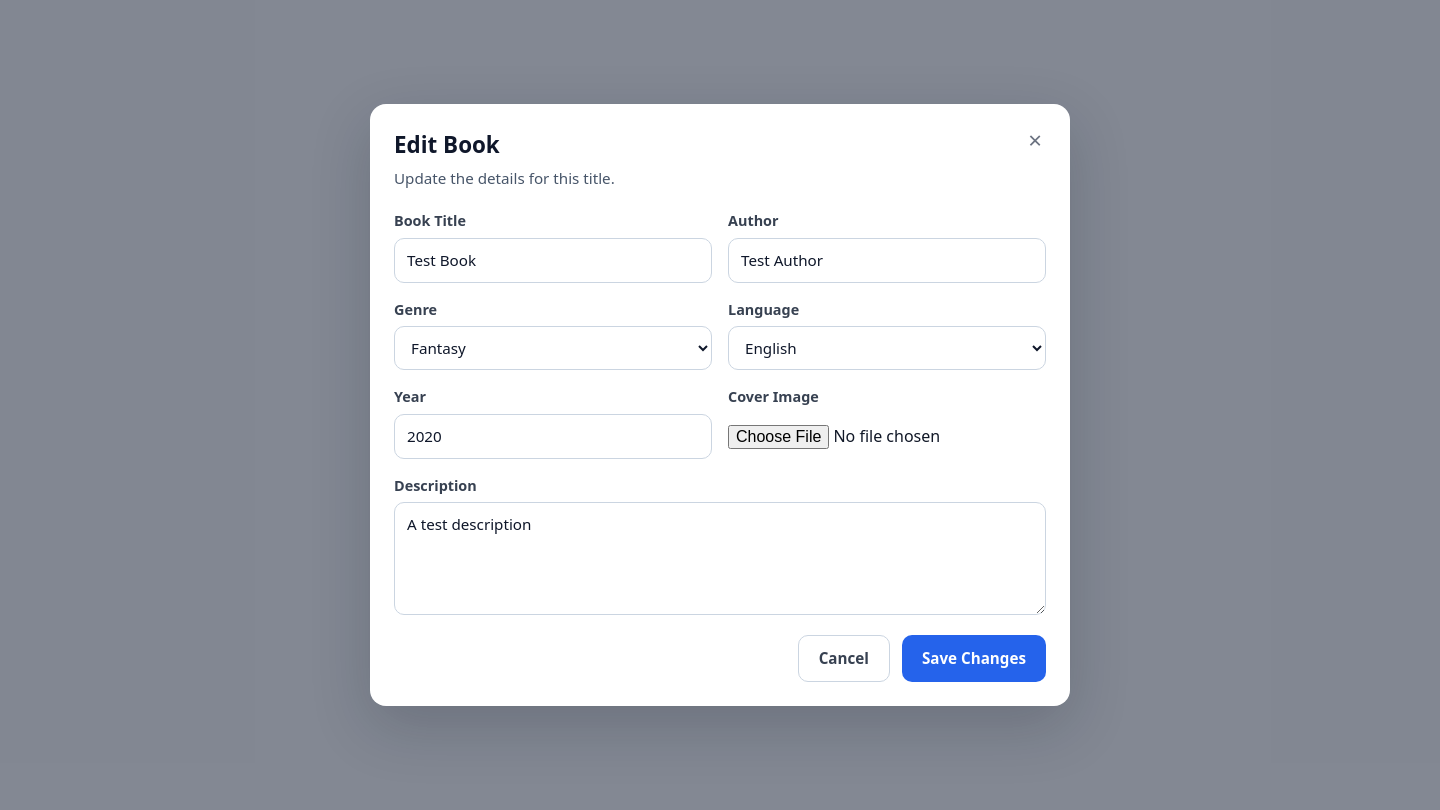
EditBookForm › shows validation error when required fields are cleared
Clear the field labelled "Book Title" at (553, 260), box [394,238,712,283]
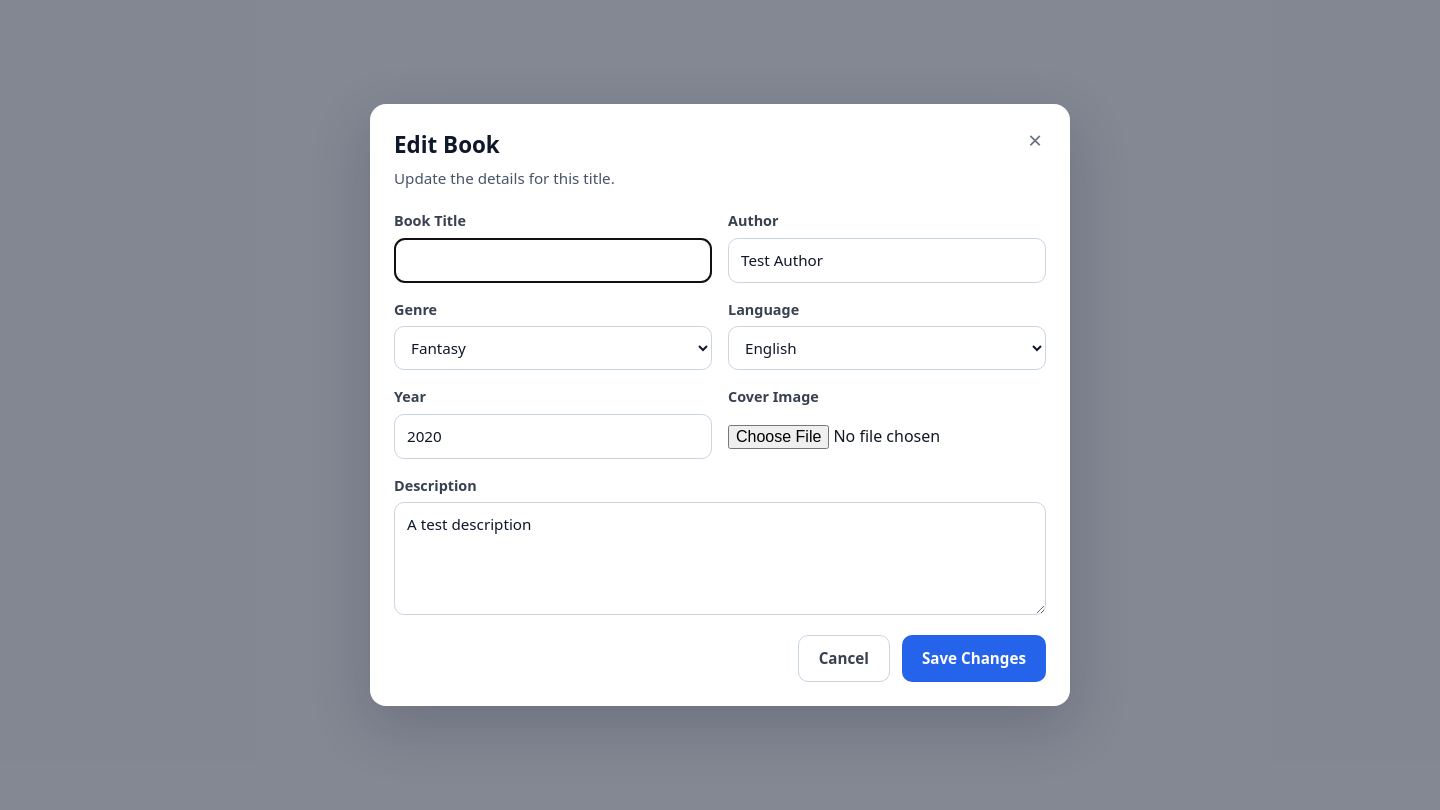
Click the button "Save Changes" at (974, 659), box [902,635,1046,682]
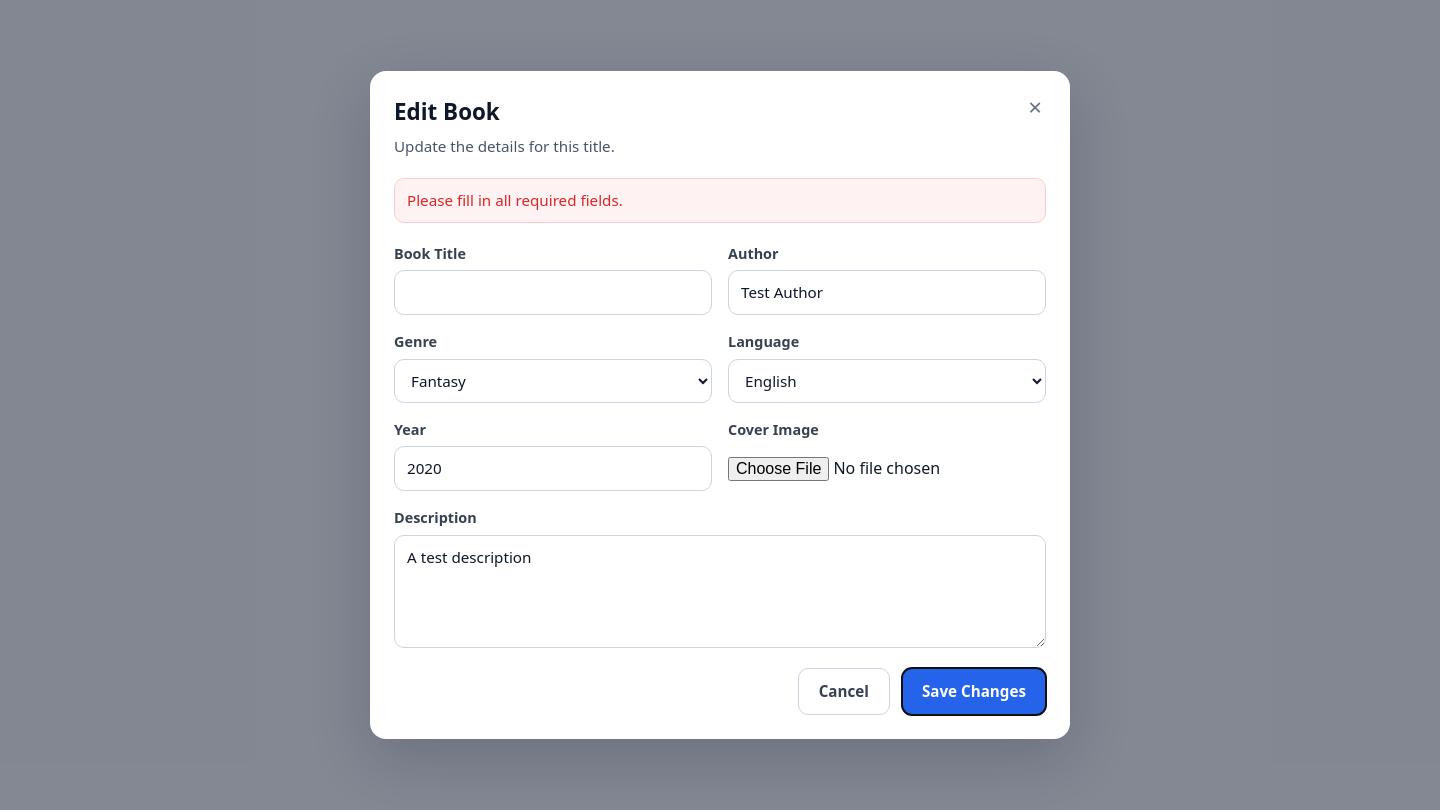
Now the text "Please fill in all required fields." is shown, box [394,178,1046,223]
